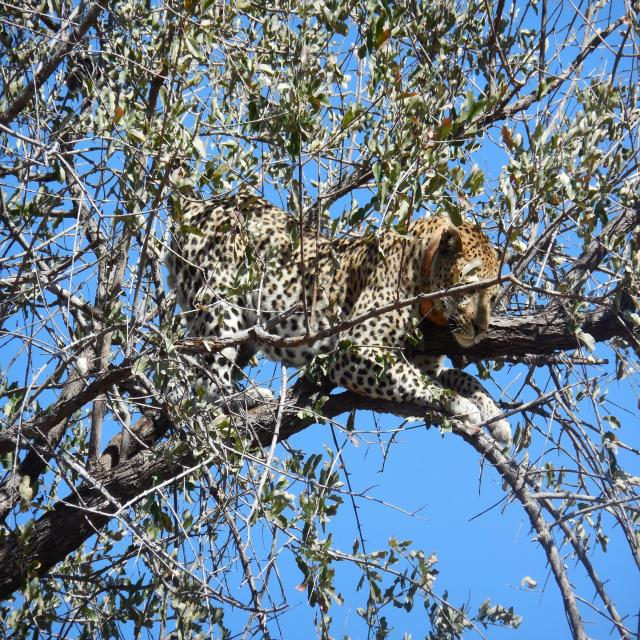Leopard: (23, 160, 506, 442)
